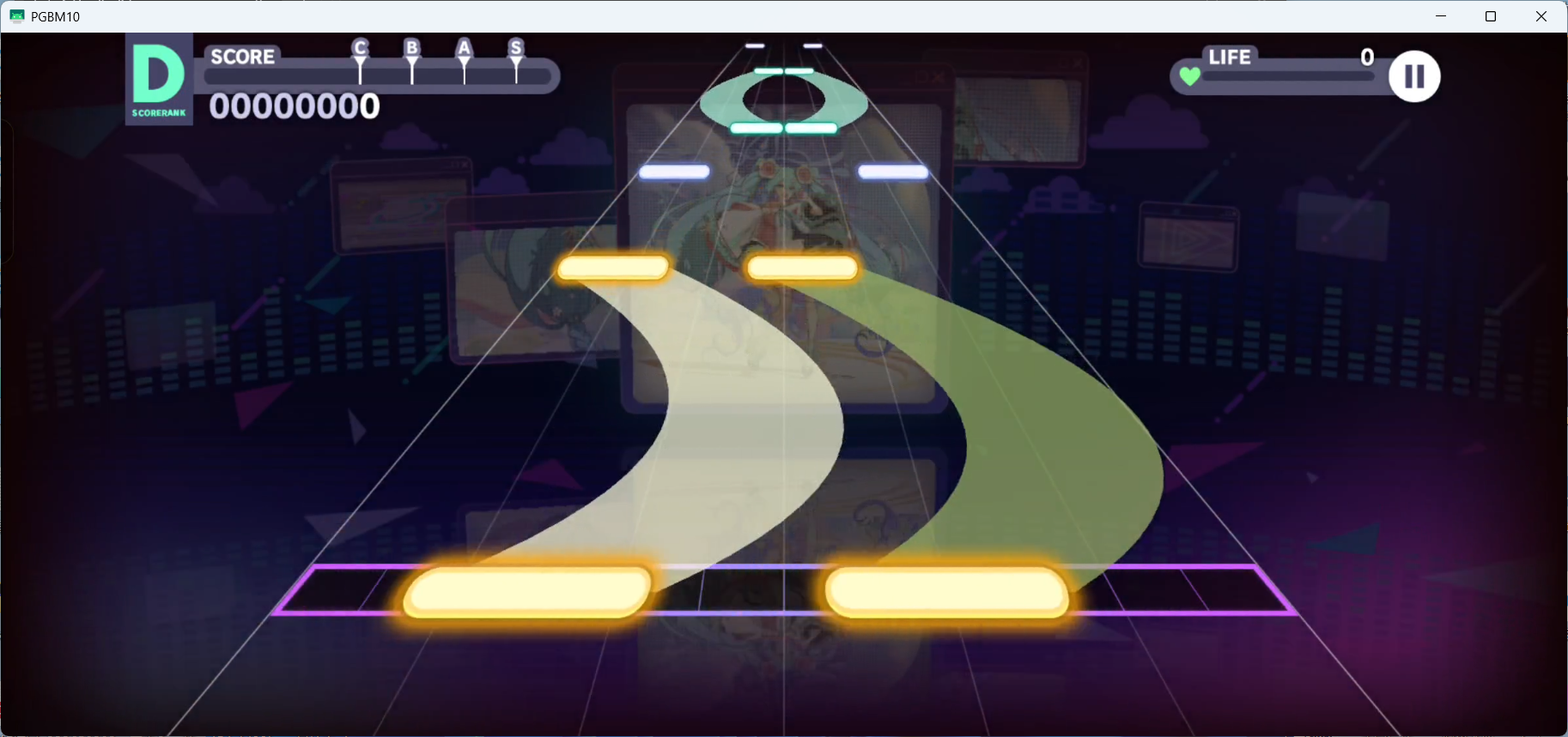hold: (784, 283, 1164, 565), (472, 284, 844, 565), (789, 75, 868, 123), (700, 76, 770, 123)
tap: (401, 565, 652, 621), (824, 566, 1069, 619), (556, 256, 670, 282), (749, 255, 858, 281), (638, 164, 710, 179), (857, 165, 928, 179), (730, 122, 782, 134), (785, 123, 837, 134), (753, 68, 782, 76), (785, 68, 813, 74), (744, 44, 763, 48), (803, 44, 822, 48)
